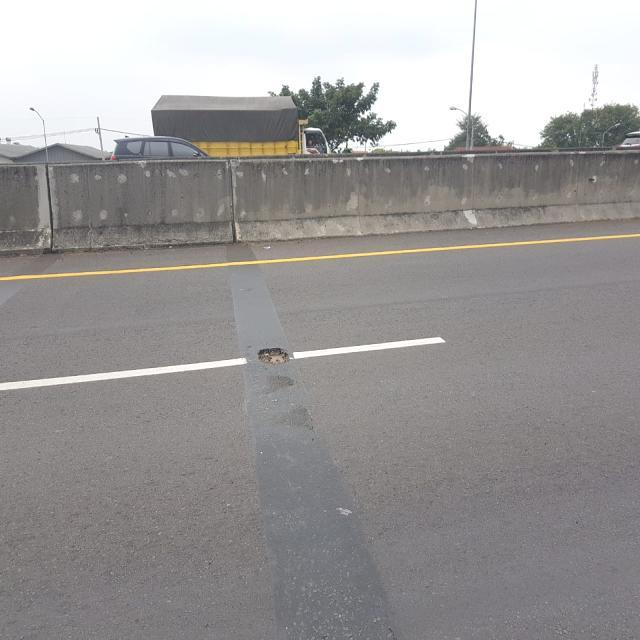Buraco: (256, 347, 292, 368)
